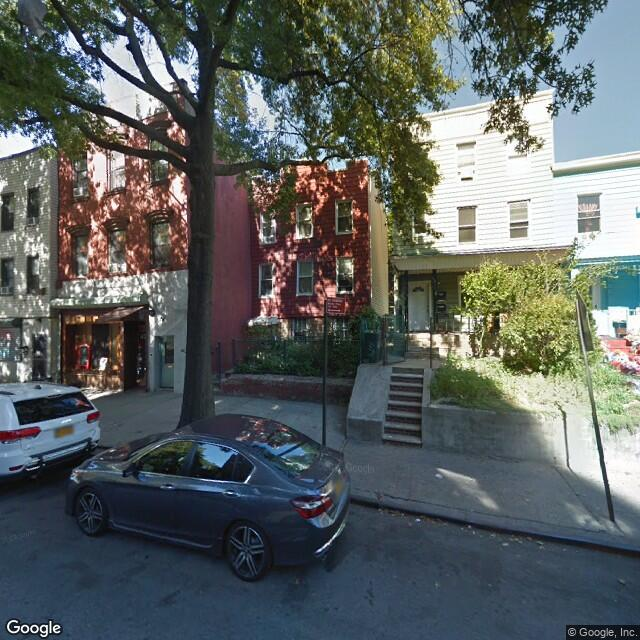litter: (428, 470, 443, 484)
